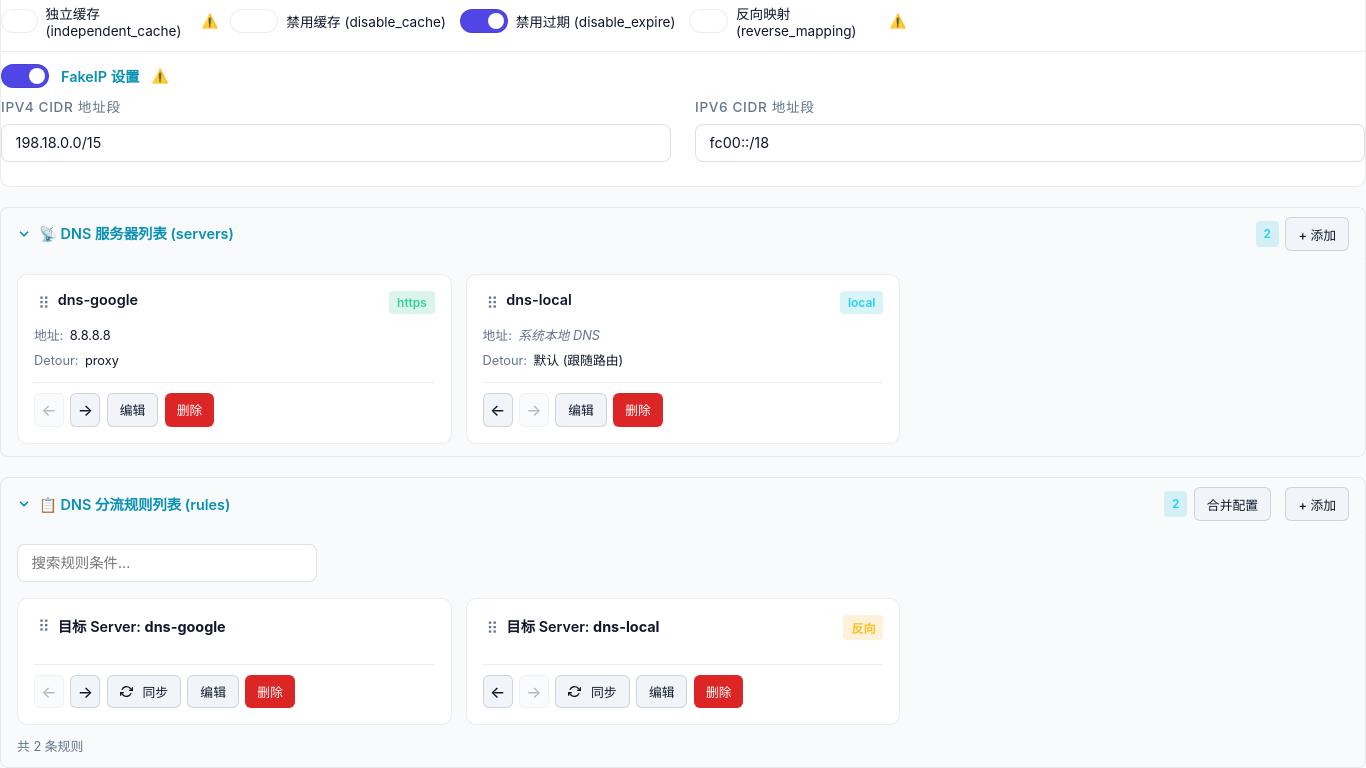
Test: DnsEditor › Search filter › shows no-match state when filter yields empty
(page scrolled)
Step 1. Type "ZZZZNOTEXIST" into the field with placeholder "搜索规则条件..." → (167, 563), box [17,544,317,582]
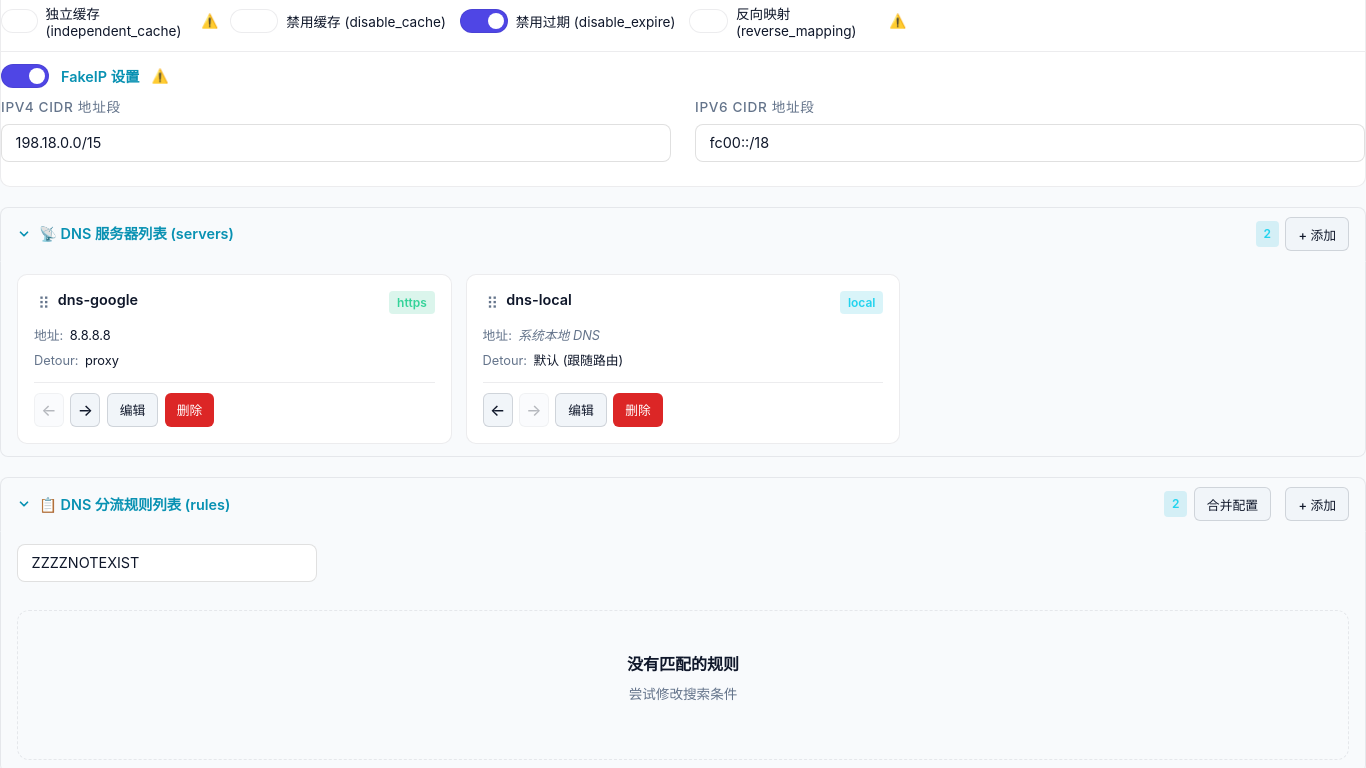
Expected: the text "没有匹配的规则" is shown, [627,654,739,674]
